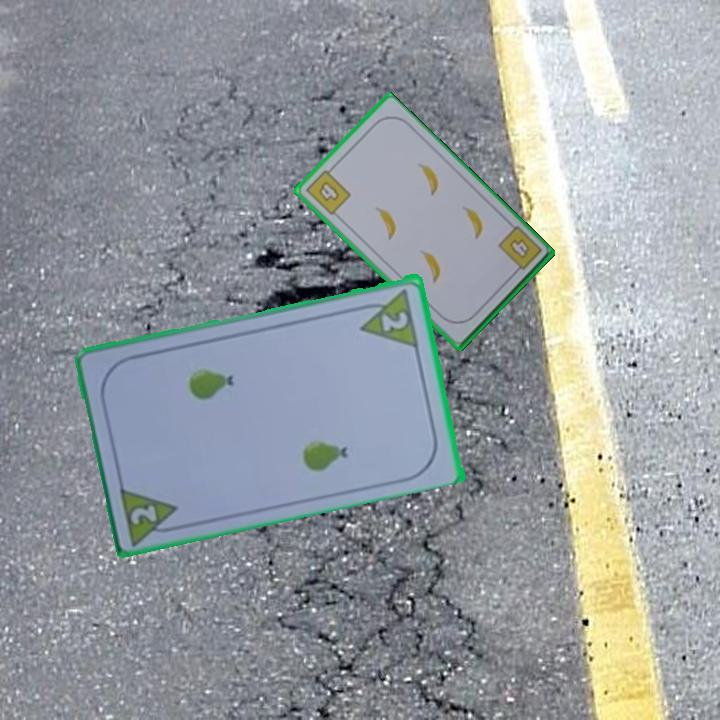2p: (127, 500, 161, 527), (378, 307, 411, 334)
4b: (302, 163, 354, 218), (495, 223, 545, 278)
